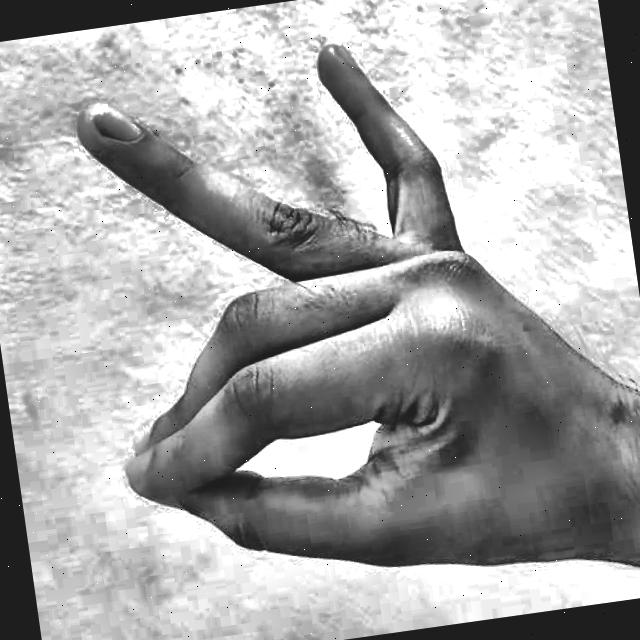Na: (21, 0, 625, 638)
